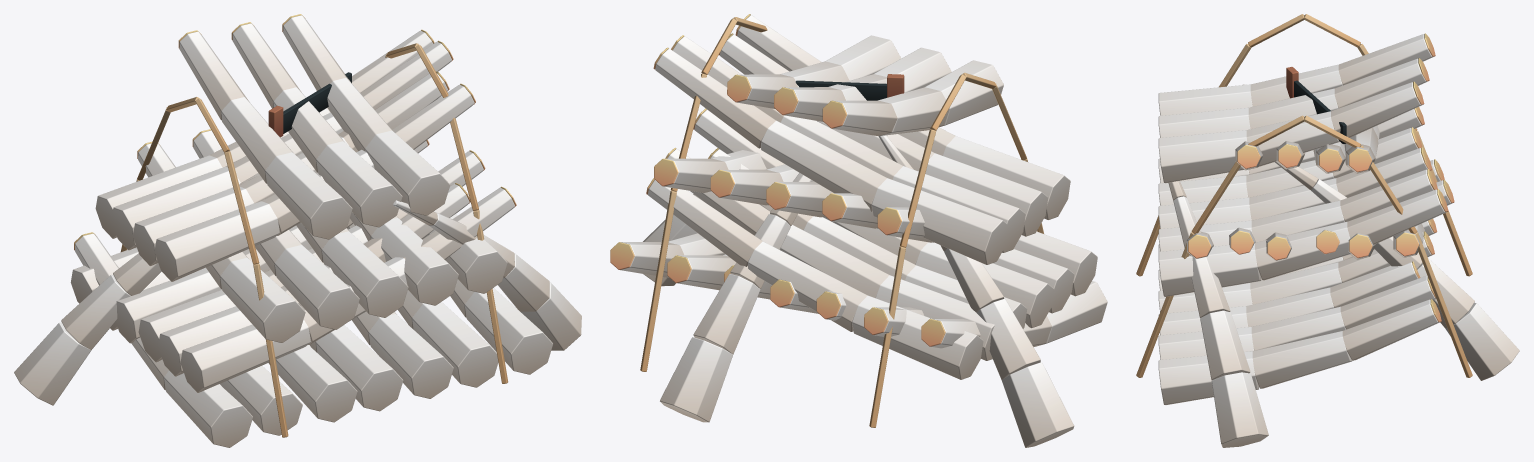
Rendered from ivory_pile.glb.
The picture shows the model from 3 angles, left to right: view 1: azimuth 30°, elevation 25°; view 2: azimuth 150°, elevation 25°; view 3: azimuth 270°, elevation 25°; orthographic projection. The views are drawn at different scales.
Parts seen in each view (by area): view 1: ivory_pile; view 2: ivory_pile; view 3: ivory_pile.
Part boxes in pixels (box(x1,y1,x2,y2)): ivory_pile: box(14, 14, 581, 447); ivory_pile: box(610, 14, 1107, 447); ivory_pile: box(1136, 14, 1519, 447).
Size of the model in its own units: 3.57 by 2.15 by 2.55.
Materials: 1 (1 with a texture image).
